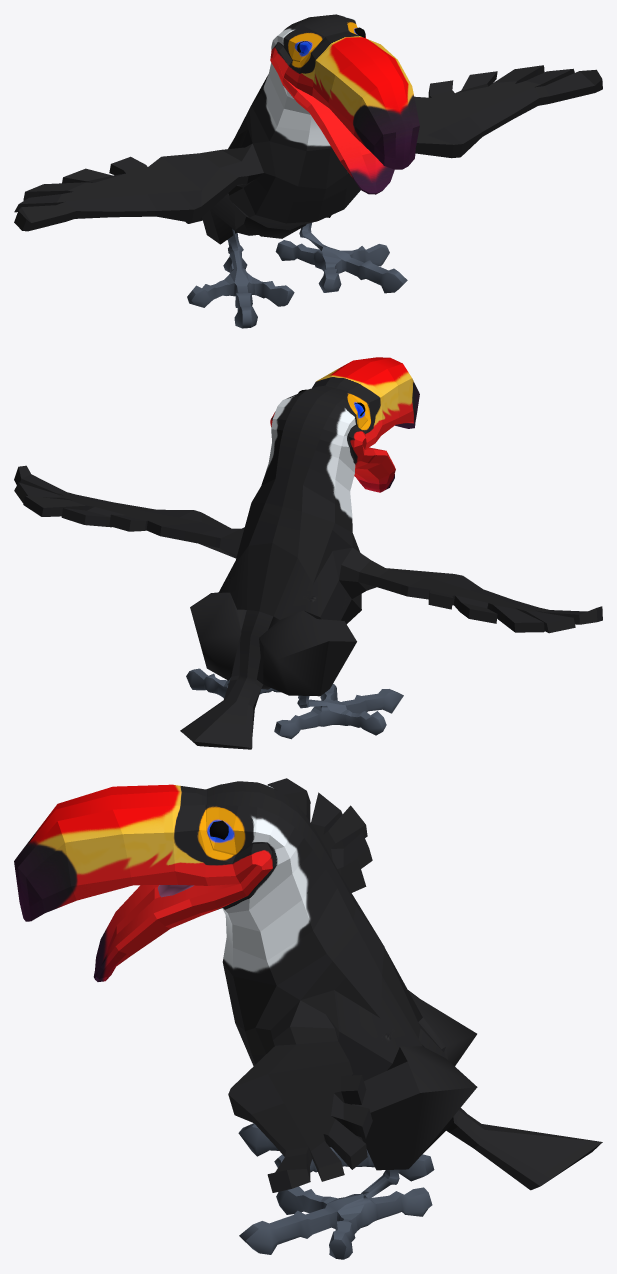
Rendered from Tucan_OBJ.obj.
3 renders of one model, top to bottom at view 1: azimuth 30°, elevation 25°; view 2: azimuth 150°, elevation 25°; view 3: azimuth 270°, elevation 25°, orthographic. The views are drawn at different scales.
Visible parts, largest first — view 1: Tucan Body, Legs Tucan; view 2: Tucan Body, Legs Tucan; view 3: Tucan Body, Legs Tucan.
Boxes of the visible parts, x1,y1,x2,y2 form: Tucan Body: (14,14,602,244); Legs Tucan: (187,222,407,328); Tucan Body: (14,357,602,749); Legs Tucan: (186,668,403,739); Tucan Body: (14,778,602,1192); Legs Tucan: (238,1123,434,1259).
Size of the model in its own units: 11.57 by 5.56 by 7.29.
Materials: 4 (1 with a texture image).
